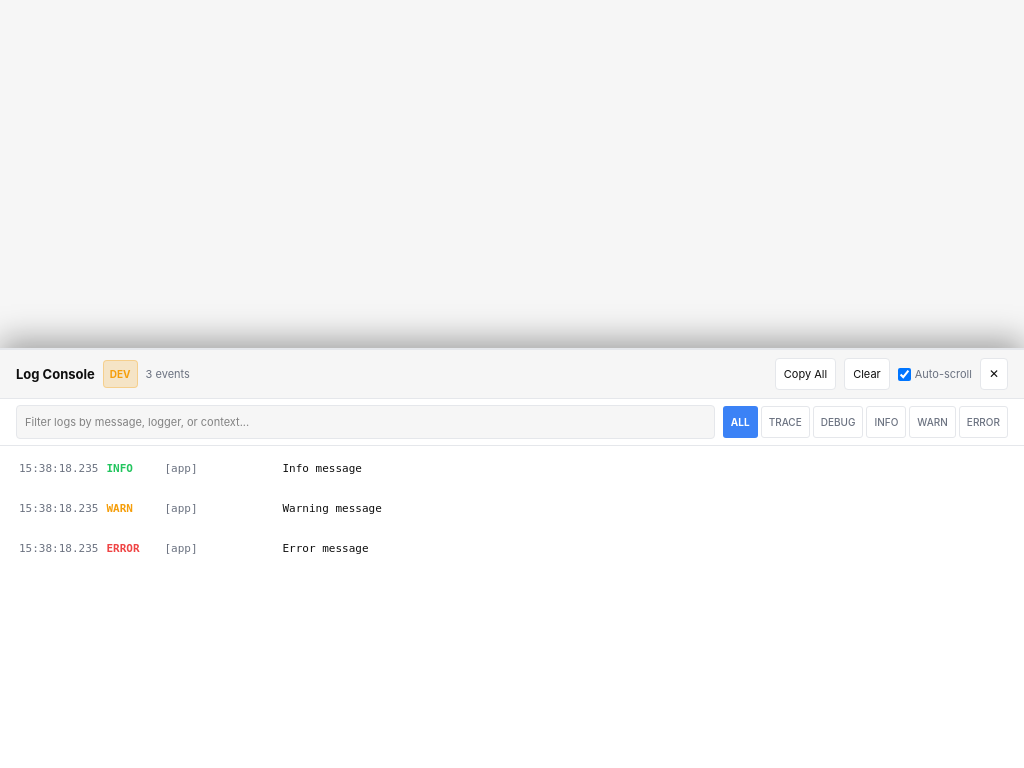
LogViewer Component › filters log entries by level when level buttons are clicked
The image size is (1024, 768).
Expected: the text "Info message" is shown, [282,462,362,475]
Expected: the text "Warning message" is shown, [282,502,382,515]
Note: Click WARN filter
Click the button with test id "filter-warn" at (933, 422), box [909,406,956,438]
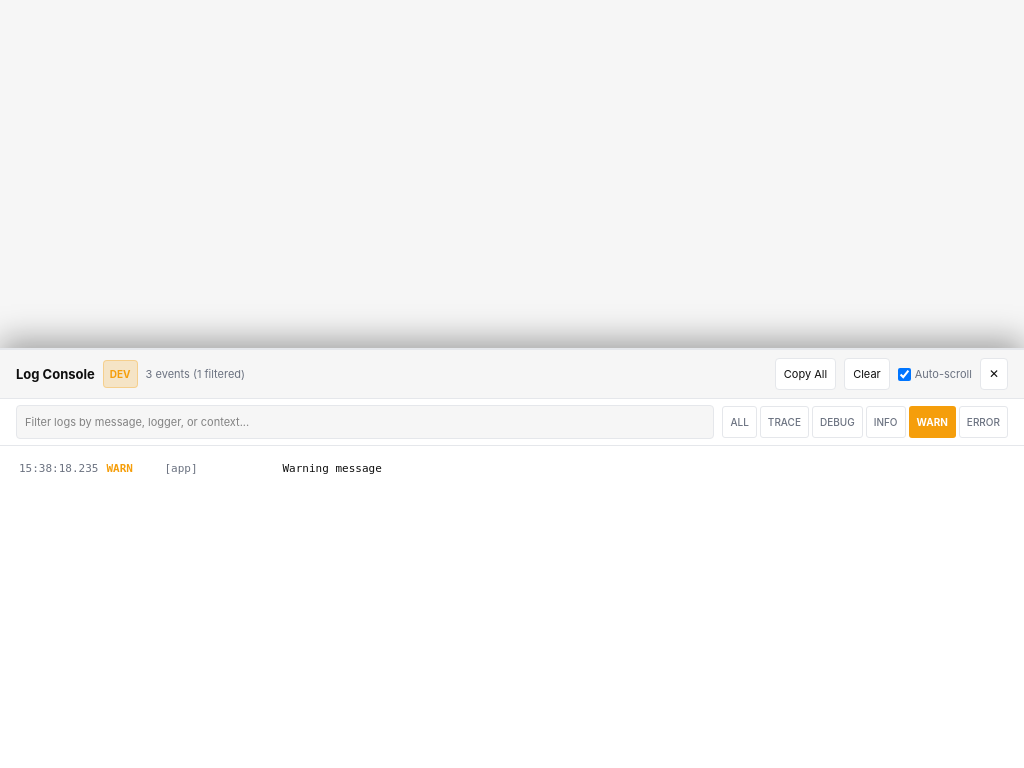
Expected: the text "Info message" is gone
Expected: the text "Warning message" is shown, [282,462,382,475]
Expected: the text "Error message" is gone
Note: Click ALL to restore
Click the button with test id "filter-all" at (740, 422), box [722,406,757,438]
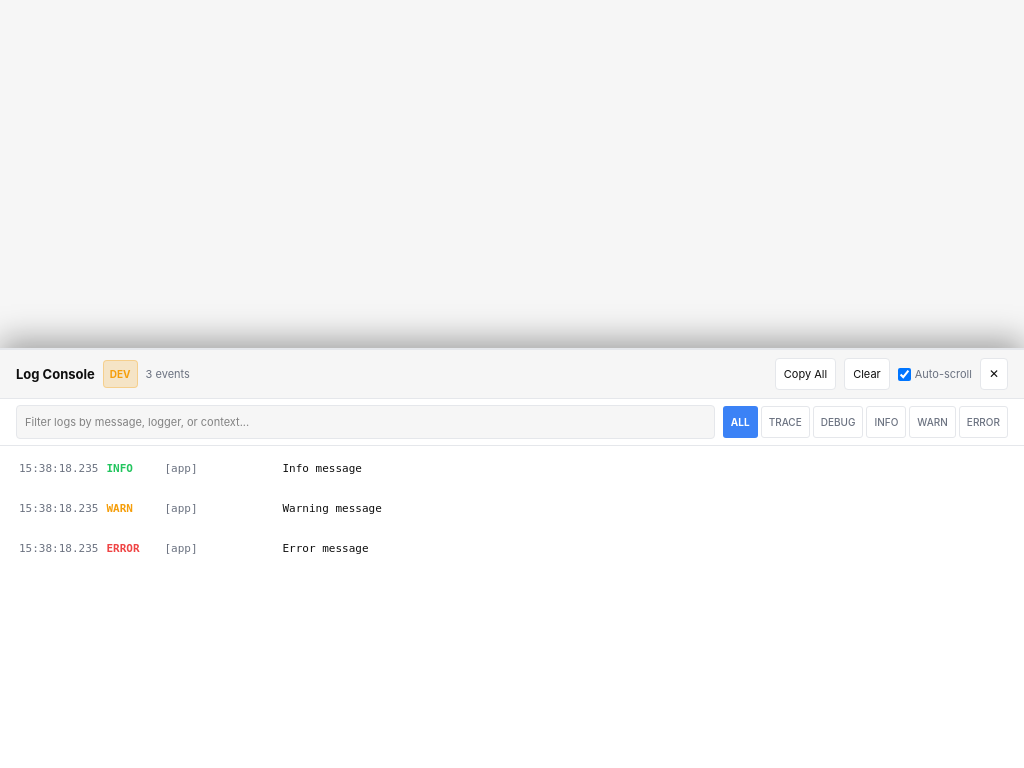
Expected: the text "Warning message" is shown, [282,502,382,515]
Expected: the text "Info message" is shown, [282,462,362,475]
Expected: the text "Error message" is shown, [282,542,369,555]
